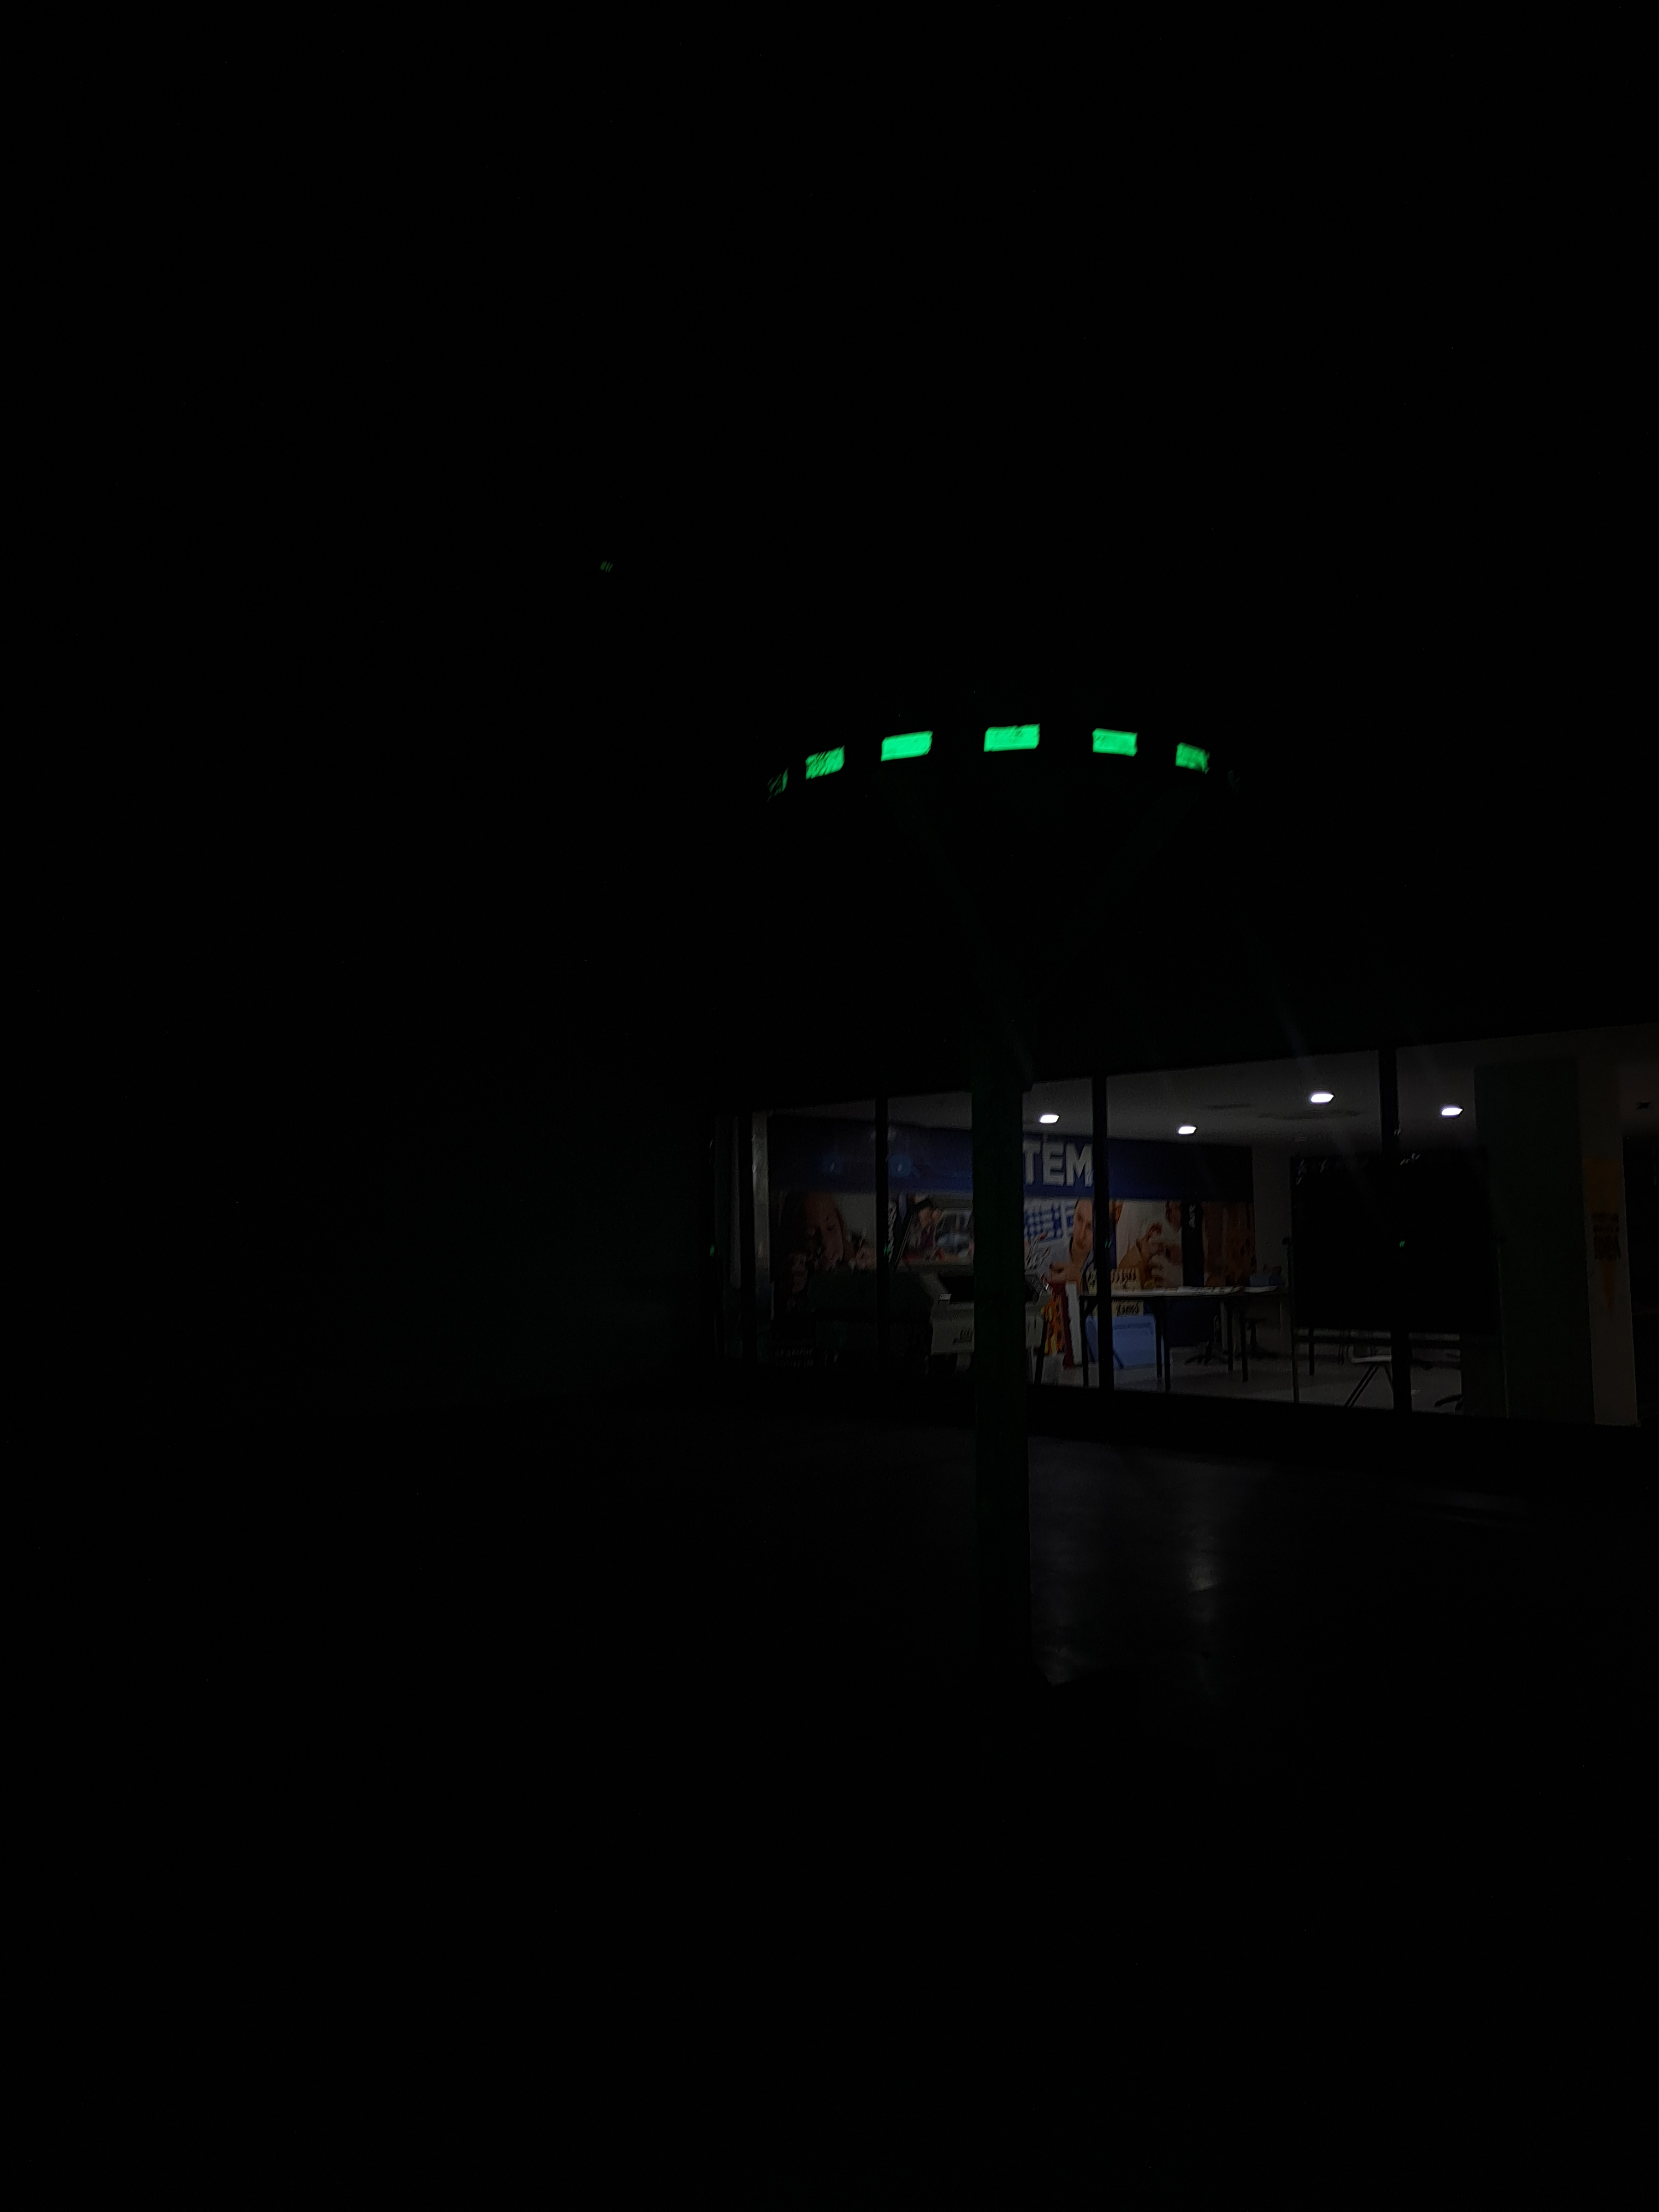hoop: (798, 718, 1218, 784)
